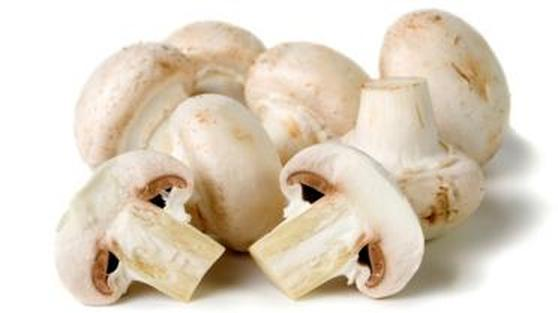champignon: (371, 7, 517, 181), (160, 101, 298, 249), (236, 23, 369, 167), (78, 32, 203, 167)
